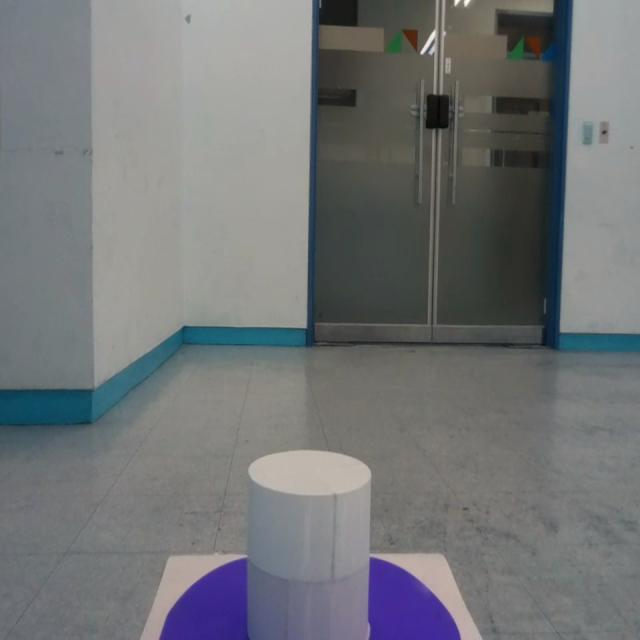cylinder: (245, 450, 372, 640)
